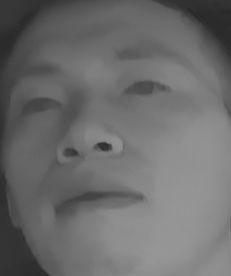eye: (116, 74, 173, 109), (15, 92, 61, 121)
mouth: (41, 170, 150, 224)
